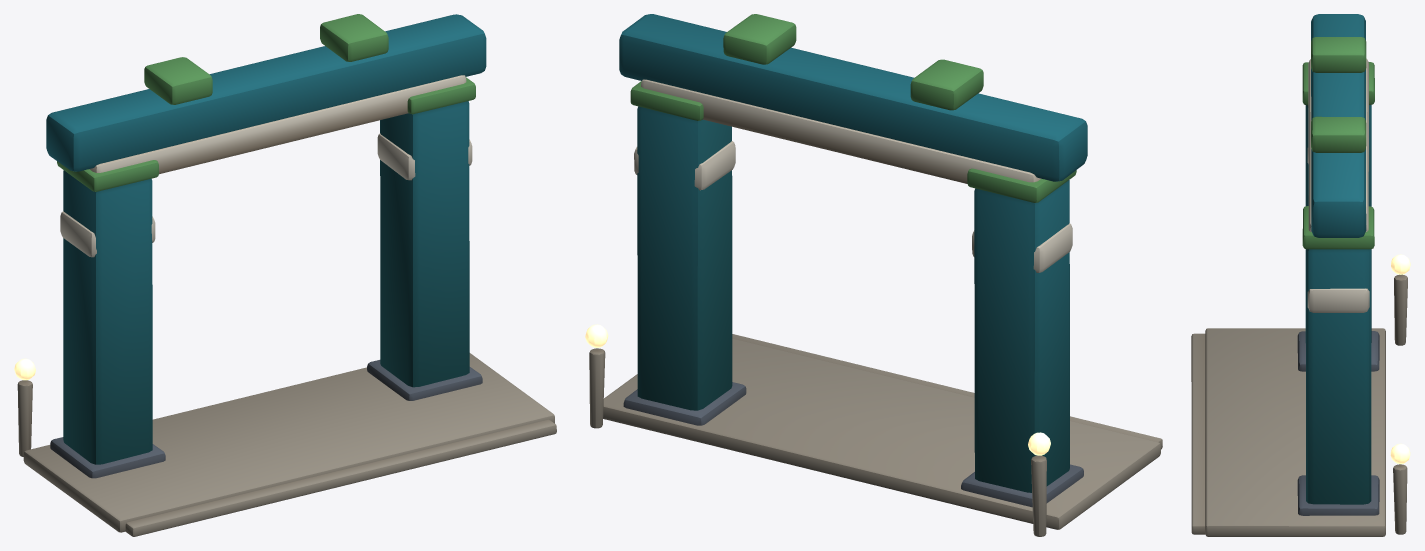
3 renders of one model, left to right at view 1: azimuth 30°, elevation 25°; view 2: azimuth 150°, elevation 25°; view 3: azimuth 270°, elevation 25°, orthographic. The views are drawn at different scales.
Parts seen in each view (by area): view 1: gate_539d4b18; view 2: gate_539d4b18; view 3: gate_539d4b18.
Boxes of the visible parts, x1,y1,x2,y2 form: gate_539d4b18: (14, 14, 556, 536); gate_539d4b18: (585, 14, 1162, 536); gate_539d4b18: (1191, 14, 1410, 536).
Size of the model in its own units: 5.47 by 4.55 by 2.55.
